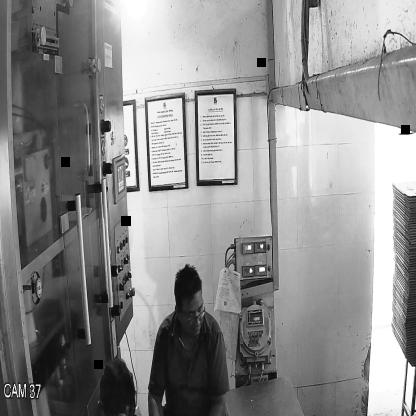goggles: (175, 301, 206, 330)
